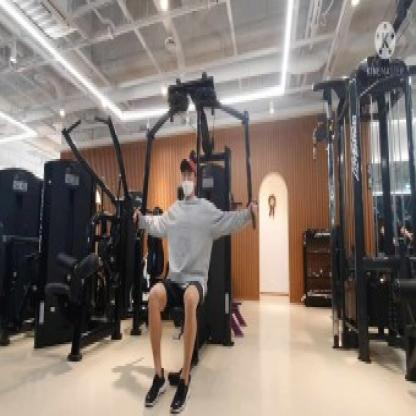chest fly machine: (86, 50, 278, 416)
